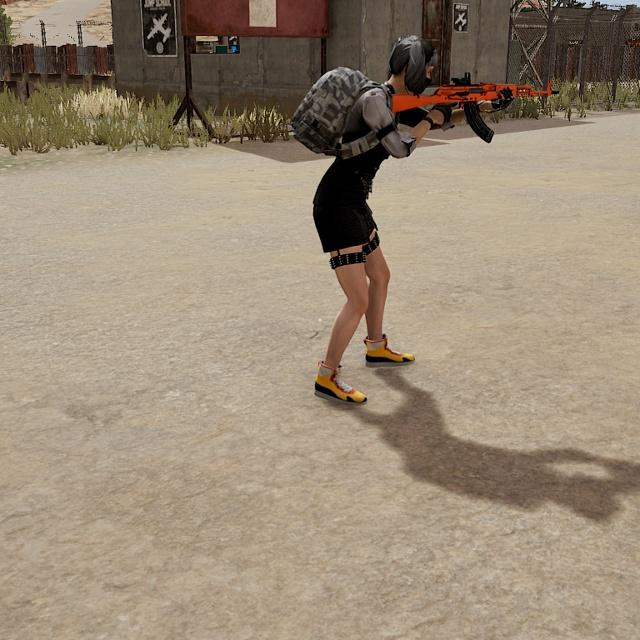head: (379, 25, 448, 113)
people: (285, 19, 483, 420)
